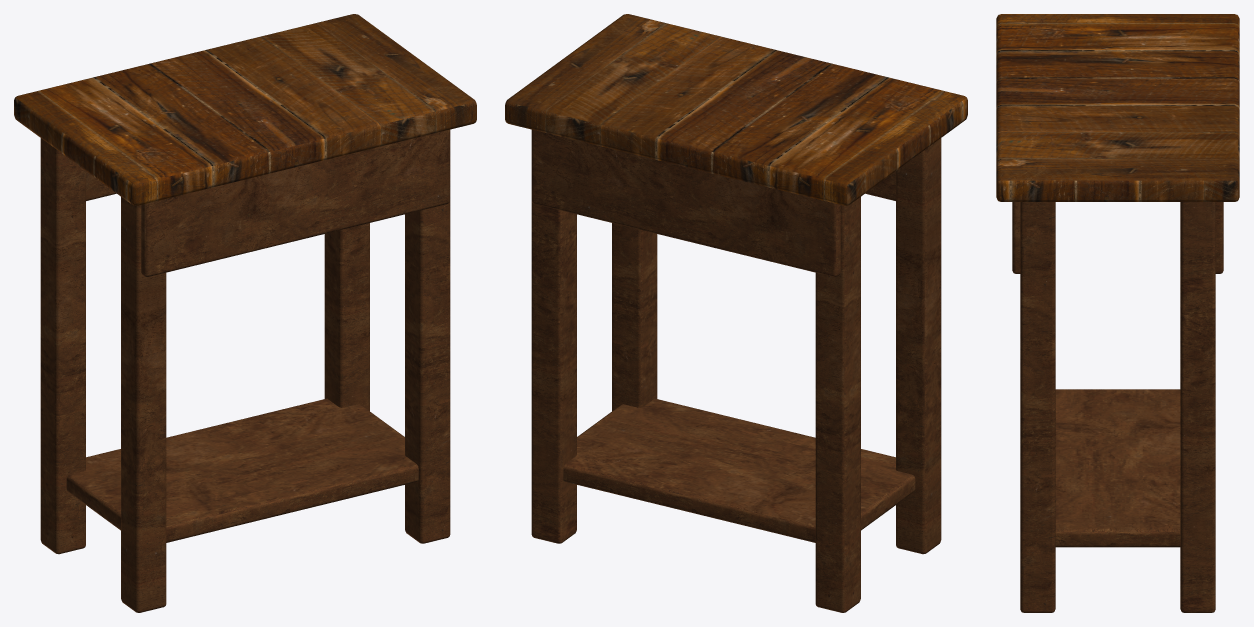
File: side_table.glb
3 renders of one model, left to right at view 1: azimuth 30°, elevation 25°; view 2: azimuth 150°, elevation 25°; view 3: azimuth 270°, elevation 25°, orthographic.
Visible parts, largest first — view 1: WalnutSurface, WalnutBoardsSurface; view 2: WalnutSurface, WalnutBoardsSurface; view 3: WalnutSurface, WalnutBoardsSurface.
Part boxes in pixels (left/top/right/bottom): WalnutSurface: left=40, top=129, right=450, bottom=612; WalnutBoardsSurface: left=14, top=14, right=476, bottom=205; WalnutSurface: left=531, top=129, right=941, bottom=612; WalnutBoardsSurface: left=505, top=14, right=967, bottom=205; WalnutSurface: left=1012, top=202, right=1223, bottom=612; WalnutBoardsSurface: left=996, top=14, right=1239, bottom=201.
Size of the model in its own units: 0.62 by 0.761 by 0.38.
Materials: 2 (2 with a texture image).
